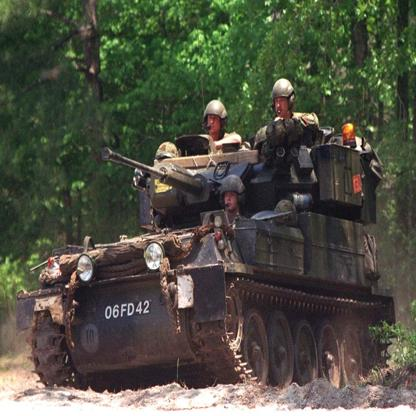Tank: (14, 123, 399, 388)
